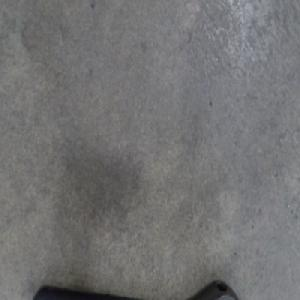AdjustableWrench: (35, 274, 238, 300)
